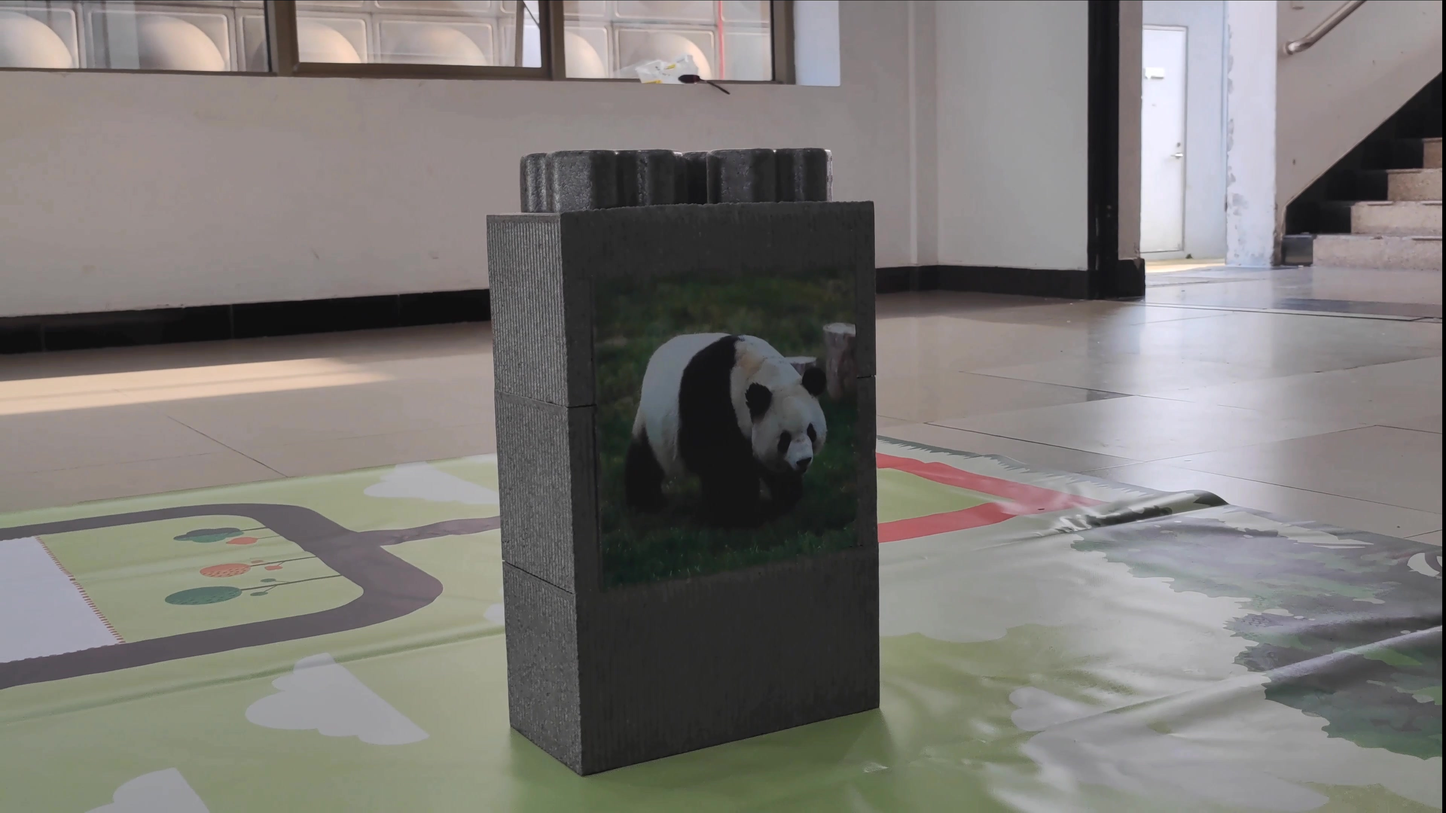panda: (610, 303, 837, 530)
